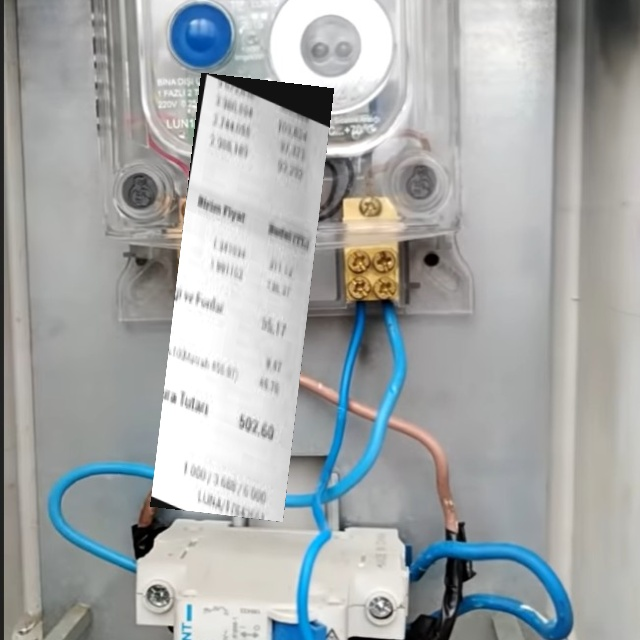electricity-bill: (150, 72, 334, 521)
